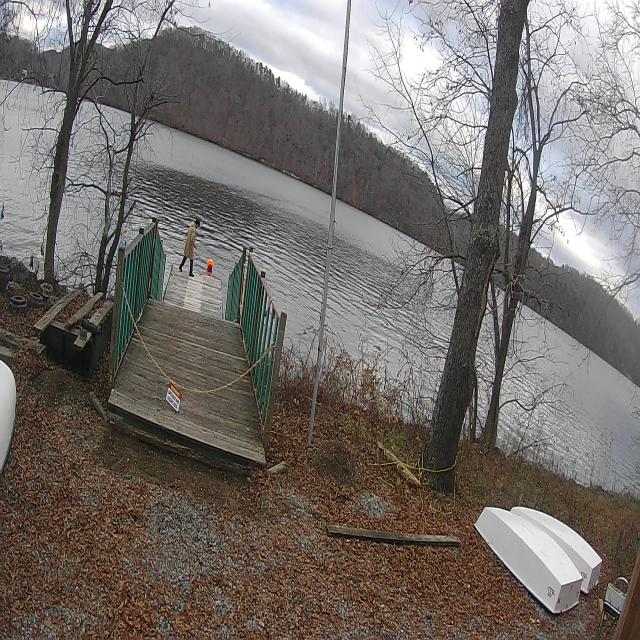Buoy: (206, 257, 214, 278)
